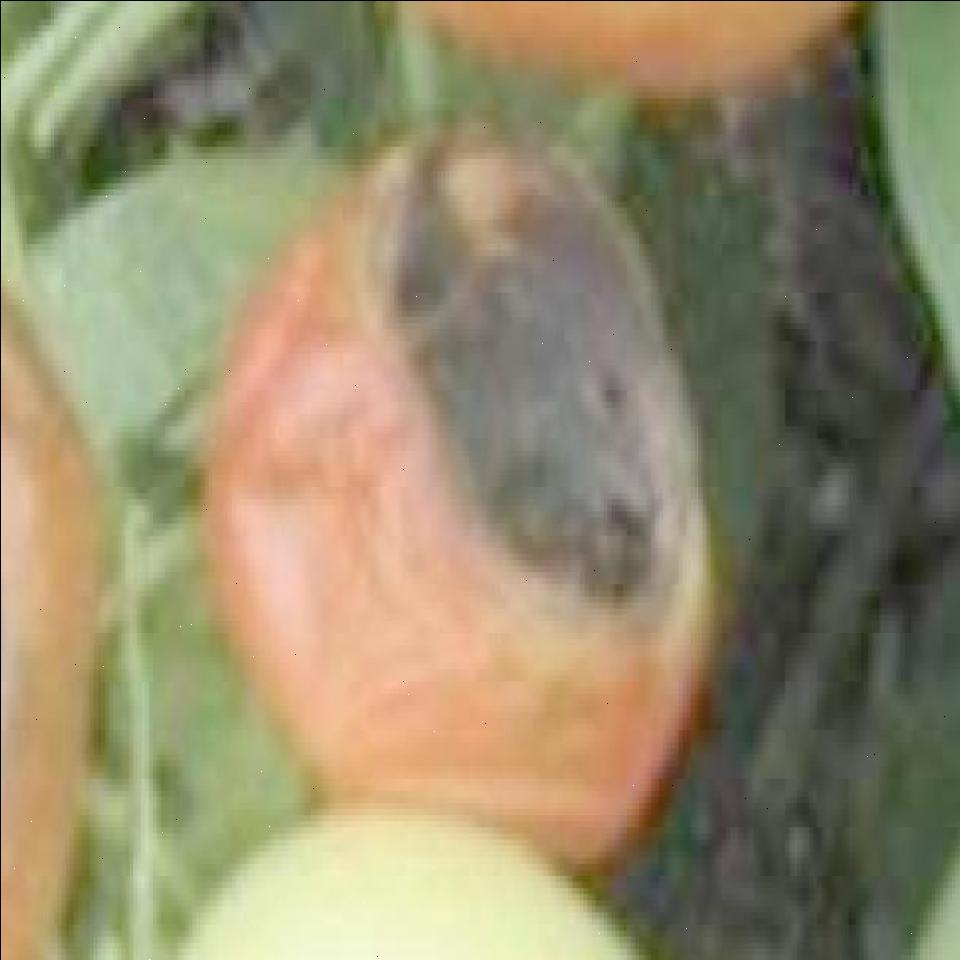Blossom_end_rot: (358, 98, 686, 620), (0, 490, 14, 774)
